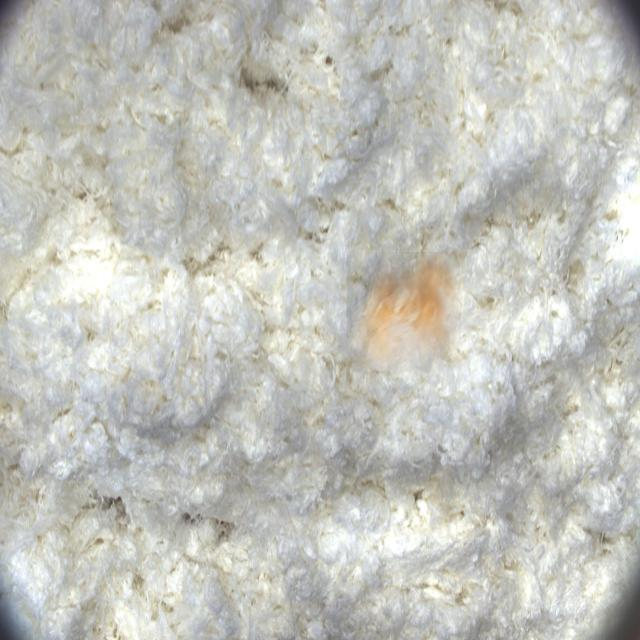dust: (347, 252, 461, 371)
